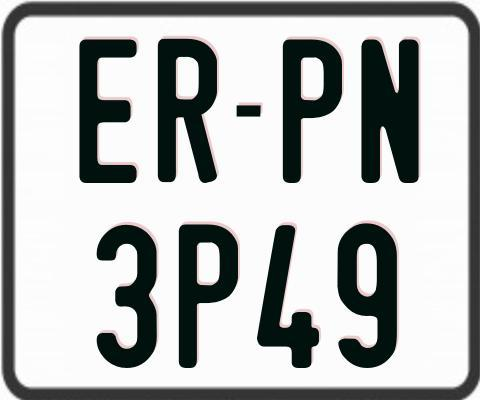3: (95, 225, 156, 371)
4: (254, 224, 317, 373)
9: (337, 221, 399, 366)
E: (77, 38, 139, 187)
N: (360, 39, 423, 186)
P: (176, 222, 239, 372), (280, 36, 344, 181)
R: (158, 38, 220, 183)
